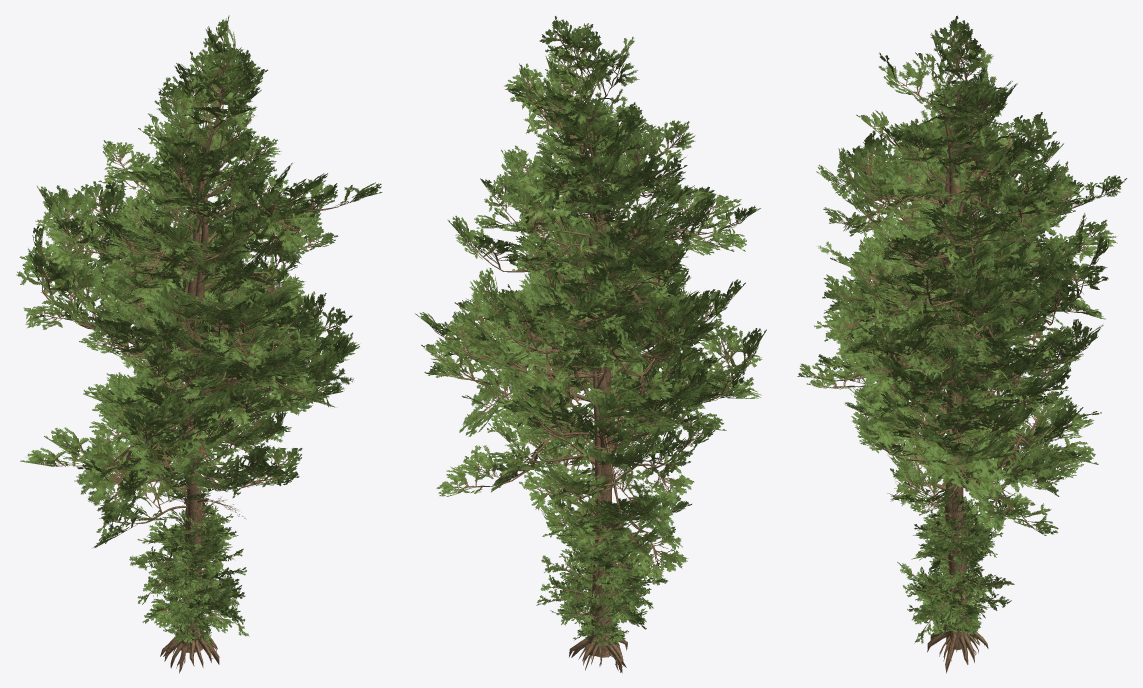
File: pines.glb
3 renders of one model, left to right at view 1: azimuth 30°, elevation 25°; view 2: azimuth 150°, elevation 25°; view 3: azimuth 270°, elevation 25°, orthographic. The views are drawn at different scales.
Visible parts, largest first — view 1: Pine_big_3_LOD1, Pine_big_1_LOD1, Pine_big_2_LOD1, Pine_big_3_LOD2, Pine_big_1_LOD2, Pine_big_2_LOD2, Pine_medium_1_LOD1, Pine_medium_1_LOD2, Pine_medium_2_LOD1, Pine_small_2_LOD1, Pine_medium_3_LOD1, Pine_small_1_LOD1 (+6 smaller); view 2: Pine_big_3_LOD1, Pine_big_2_LOD1, Pine_big_1_LOD1, Pine_big_3_LOD2, Pine_big_2_LOD2, Pine_big_1_LOD2, Pine_medium_1_LOD1, Pine_medium_2_LOD1, Pine_medium_3_LOD1, Pine_medium_1_LOD2, Pine_medium_2_LOD2, Pine_medium_3_LOD2 (+6 smaller); view 3: Pine_big_3_LOD1, Pine_big_2_LOD1, Pine_big_1_LOD1, Pine_big_3_LOD2, Pine_big_2_LOD2, Pine_big_1_LOD2, Pine_medium_1_LOD1, Pine_medium_2_LOD1, Pine_medium_1_LOD2, Pine_medium_2_LOD2, Pine_small_3_LOD1, Pine_small_2_LOD1 (+6 smaller).
Part boxes in pixels (bbox=[...]): Pine_big_3_LOD1: bbox=[17, 15, 382, 673]; Pine_big_1_LOD1: bbox=[20, 96, 343, 662]; Pine_big_2_LOD1: bbox=[67, 113, 359, 666]; Pine_big_3_LOD2: bbox=[16, 18, 377, 668]; Pine_big_1_LOD2: bbox=[26, 124, 337, 654]; Pine_big_2_LOD2: bbox=[70, 123, 354, 663]; Pine_medium_1_LOD1: bbox=[112, 212, 318, 664]; Pine_medium_1_LOD2: bbox=[115, 229, 307, 654]; Pine_medium_2_LOD1: bbox=[77, 224, 302, 668]; Pine_small_2_LOD1: bbox=[129, 509, 246, 637]; Pine_medium_3_LOD1: bbox=[93, 309, 270, 651]; Pine_small_1_LOD1: bbox=[136, 503, 239, 627]; Pine_big_3_LOD1: bbox=[447, 16, 760, 673]; Pine_big_2_LOD1: bbox=[421, 137, 766, 669]; Pine_big_1_LOD1: bbox=[415, 102, 727, 667]; Pine_big_3_LOD2: bbox=[455, 20, 754, 671]; Pine_big_2_LOD2: bbox=[427, 150, 762, 660]; Pine_big_1_LOD2: bbox=[424, 113, 722, 652]; Pine_medium_1_LOD1: bbox=[436, 203, 694, 666]; Pine_medium_2_LOD1: bbox=[482, 244, 703, 670]; Pine_medium_3_LOD1: bbox=[530, 307, 715, 659]; Pine_medium_1_LOD2: bbox=[439, 214, 693, 666]; Pine_medium_2_LOD2: bbox=[487, 249, 701, 668]; Pine_medium_3_LOD2: bbox=[538, 337, 712, 578]; Pine_big_3_LOD1: bbox=[816, 15, 1117, 664]; Pine_big_2_LOD1: bbox=[816, 115, 1127, 673]; Pine_big_1_LOD1: bbox=[797, 79, 1103, 664]; Pine_big_3_LOD2: bbox=[820, 19, 1113, 664]; Pine_big_2_LOD2: bbox=[826, 132, 1120, 670]; Pine_big_1_LOD2: bbox=[800, 111, 1099, 651]; Pine_medium_1_LOD1: bbox=[860, 182, 1059, 661]; Pine_medium_2_LOD1: bbox=[845, 228, 1083, 662]; Pine_medium_1_LOD2: bbox=[861, 226, 1052, 654]; Pine_medium_2_LOD2: bbox=[847, 245, 1079, 654]; Pine_small_3_LOD1: bbox=[902, 489, 1014, 643]; Pine_small_2_LOD1: bbox=[907, 496, 994, 633].
Bounding box in the file's own units: 9.63 × 19.62 × 8.92.
Materials: 2 (2 with a texture image).
